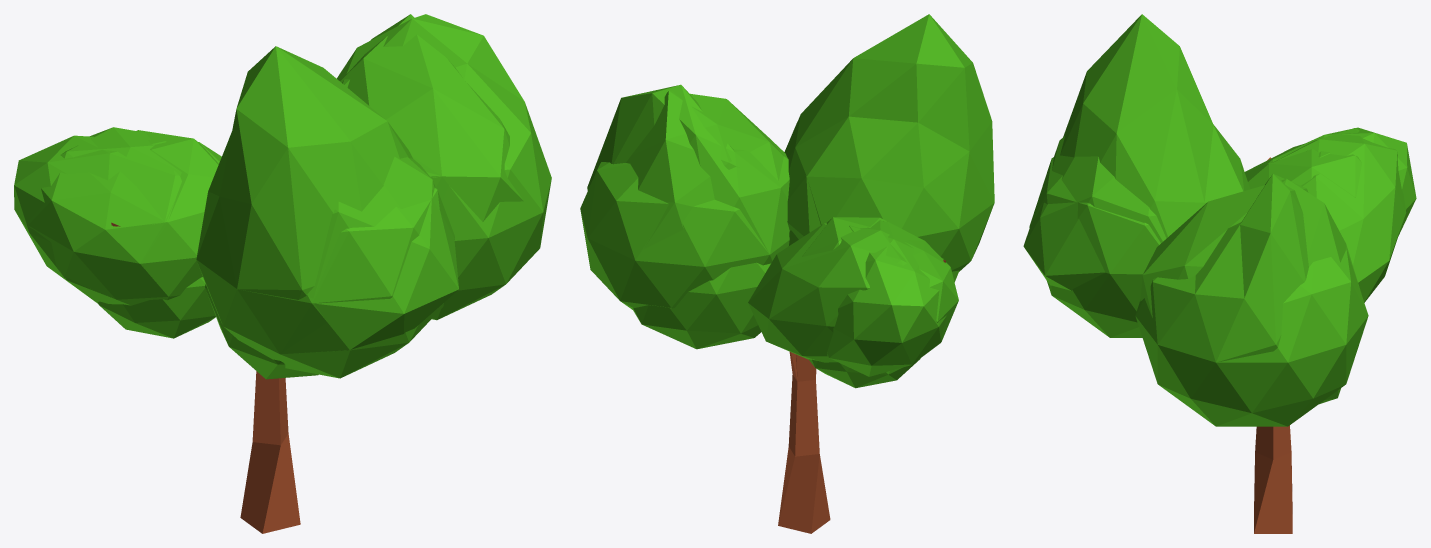
Rendered from Trees.fbx.
3 renders of one model, left to right at view 1: azimuth 30°, elevation 25°; view 2: azimuth 150°, elevation 25°; view 3: azimuth 270°, elevation 25°, orthographic. The views are drawn at different scales.
Visible parts, largest first — view 1: Tree3, Tree2, Tree1, Tree4; view 2: Tree3, Tree2, Tree1, Tree4; view 3: Tree1, Tree3, Tree2.
Boxes of the visible parts, <box> form: Tree3: <box>14,14,550,325</box>; Tree2: <box>28,14,523,354</box>; Tree1: <box>137,129,551,533</box>; Tree4: <box>98,277,318,379</box>; Tree3: <box>587,14,994,376</box>; Tree2: <box>626,91,958,380</box>; Tree1: <box>580,162,991,533</box>; Tree4: <box>632,230,958,388</box>; Tree1: <box>1029,149,1368,533</box>; Tree3: <box>1060,14,1416,362</box>; Tree2: <box>1023,128,1406,317</box>.
Size of the model in its own units: 9.9 by 11.58 by 8.56.
